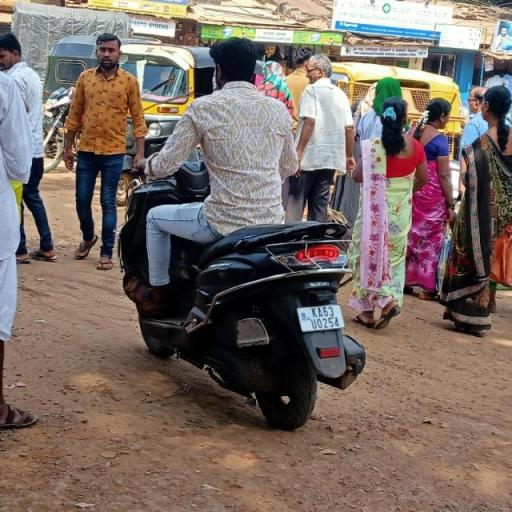bike: (114, 32, 374, 438)
numberplate: (294, 298, 350, 336)
withouthelmet: (210, 37, 260, 81)
